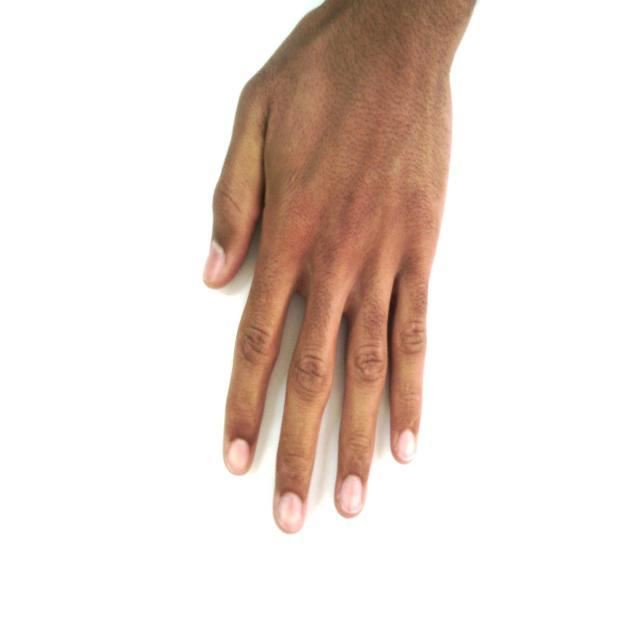Fingernail: (279, 493, 302, 531), (340, 475, 362, 512), (229, 440, 251, 473), (206, 244, 224, 278), (397, 430, 415, 459)
